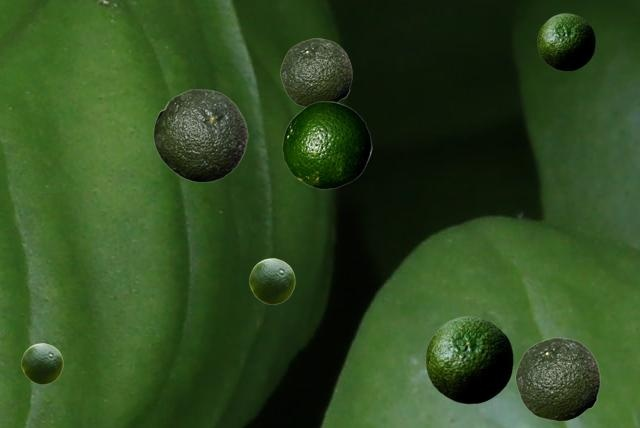calamansi: (153, 89, 247, 181), (282, 101, 371, 188), (425, 316, 512, 403), (515, 337, 599, 420), (280, 38, 351, 107), (537, 13, 594, 70), (249, 258, 294, 303), (21, 343, 62, 383)
